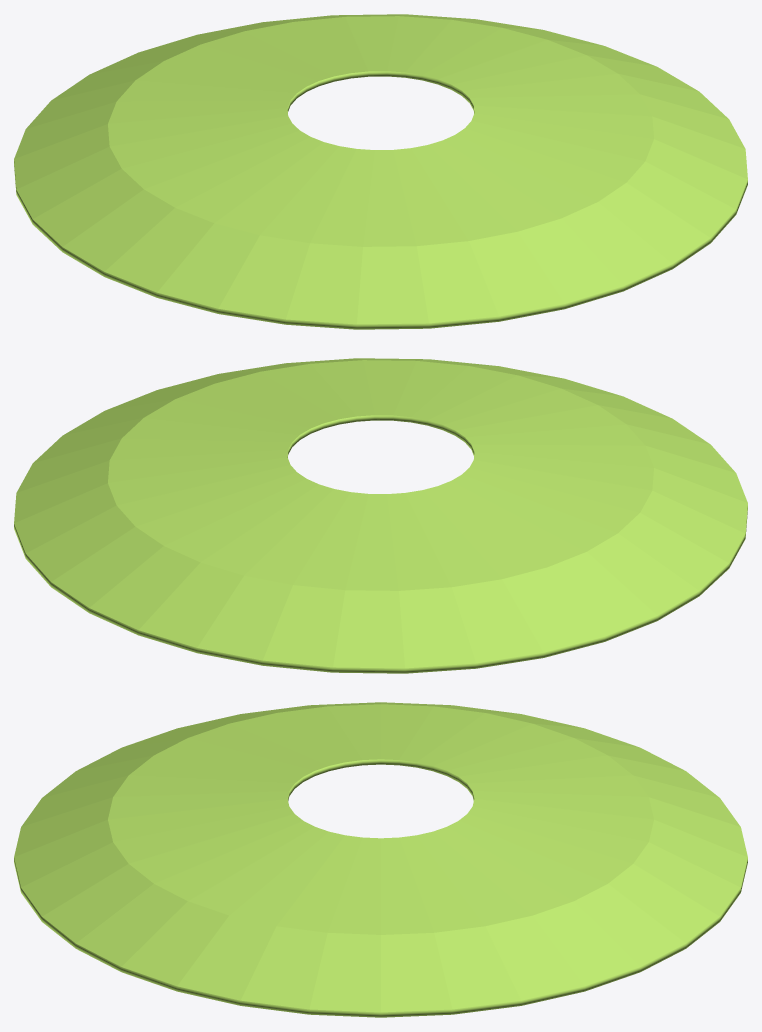
File: Roof.fbx
The picture shows the model from 3 angles, top to bottom: view 1: azimuth 30°, elevation 25°; view 2: azimuth 150°, elevation 25°; view 3: azimuth 270°, elevation 25°; orthographic projection.
Visible parts, largest first — view 1: Cylinder; view 2: Cylinder; view 3: Cylinder.
Part boxes in pixels (x1=…): Cylinder: x1=14, y1=14, x2=747, y2=329; Cylinder: x1=14, y1=358, x2=747, y2=673; Cylinder: x1=14, y1=702, x2=747, y2=1017.
Size of the model in its own units: 9536 by 915 by 9536.
